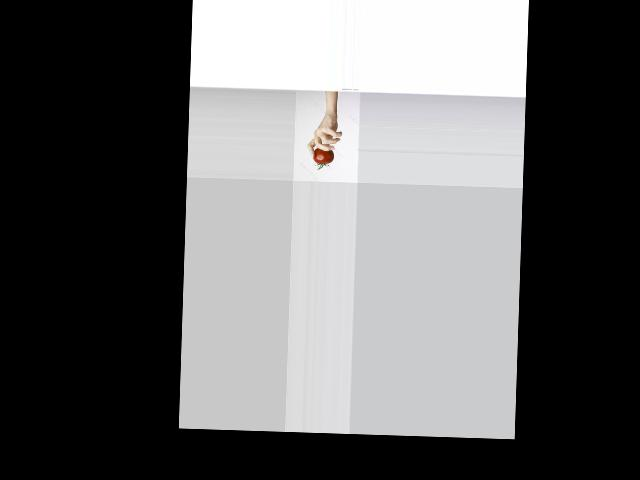tomato: (313, 148, 334, 170)
